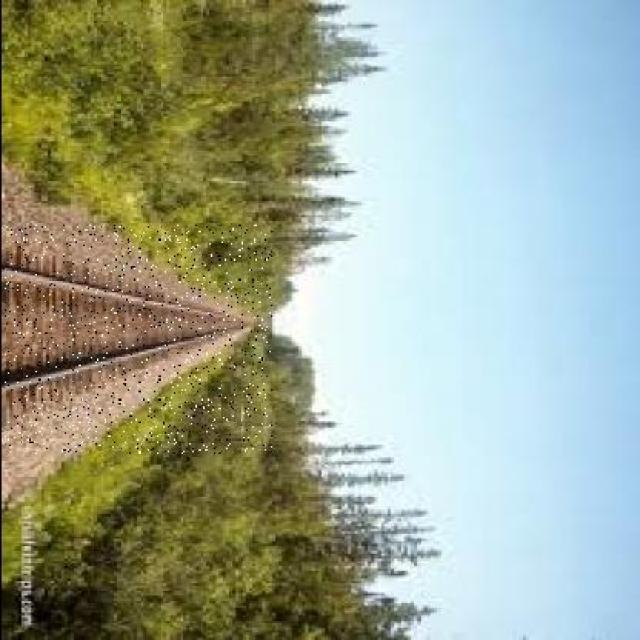rail: (4, 226, 272, 455)
